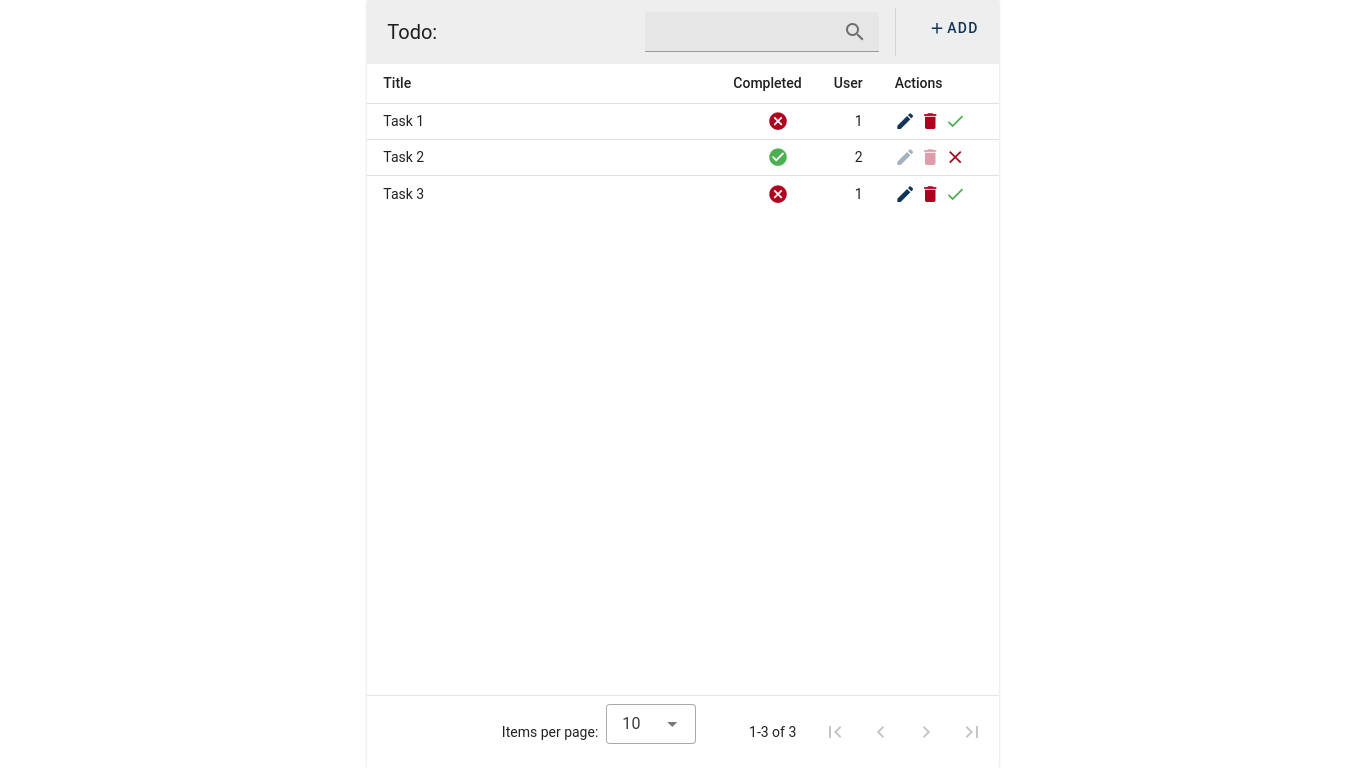
Test case: Componente ListagemData › deve abrir o formulário de adicionar nova tarefa ao clicar no botão "Add"
Click the button with test id "add-button".
click(954, 28)  # box [912,10,995,46]
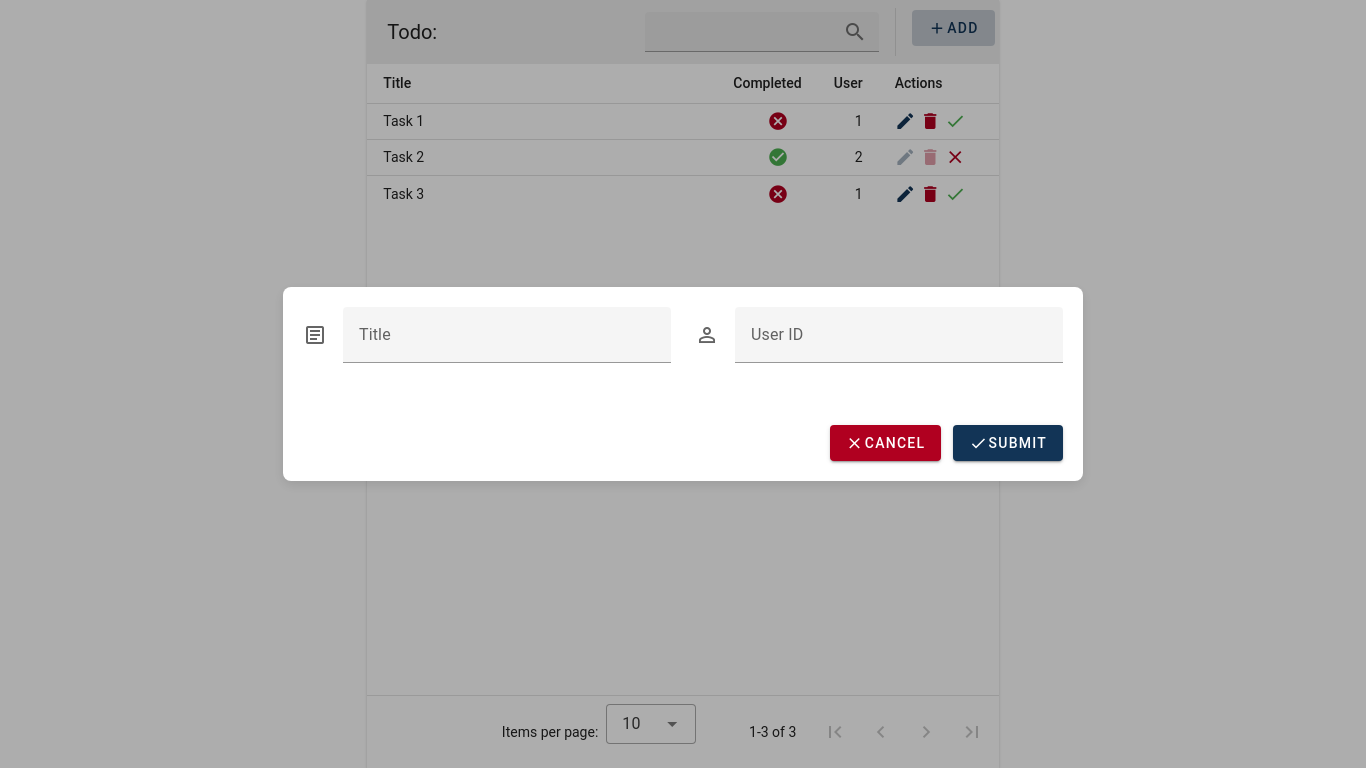
Result: the form with test id "todo-form" is shown at [283,287,1083,481]
Result: the element with test id "title-input" is shown at [303,307,671,385]
Result: the element with test id "user-id-input" is shown at [695,307,1063,385]
